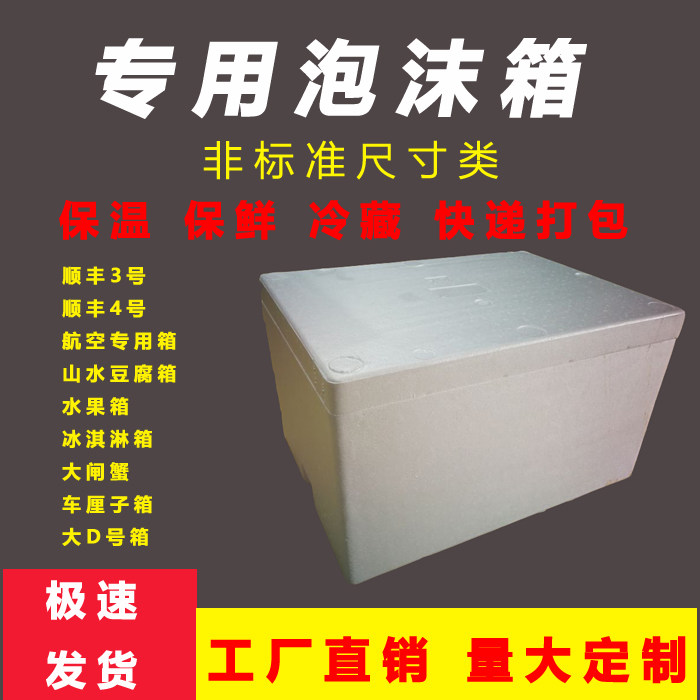Boxes: (261, 252, 683, 581)
